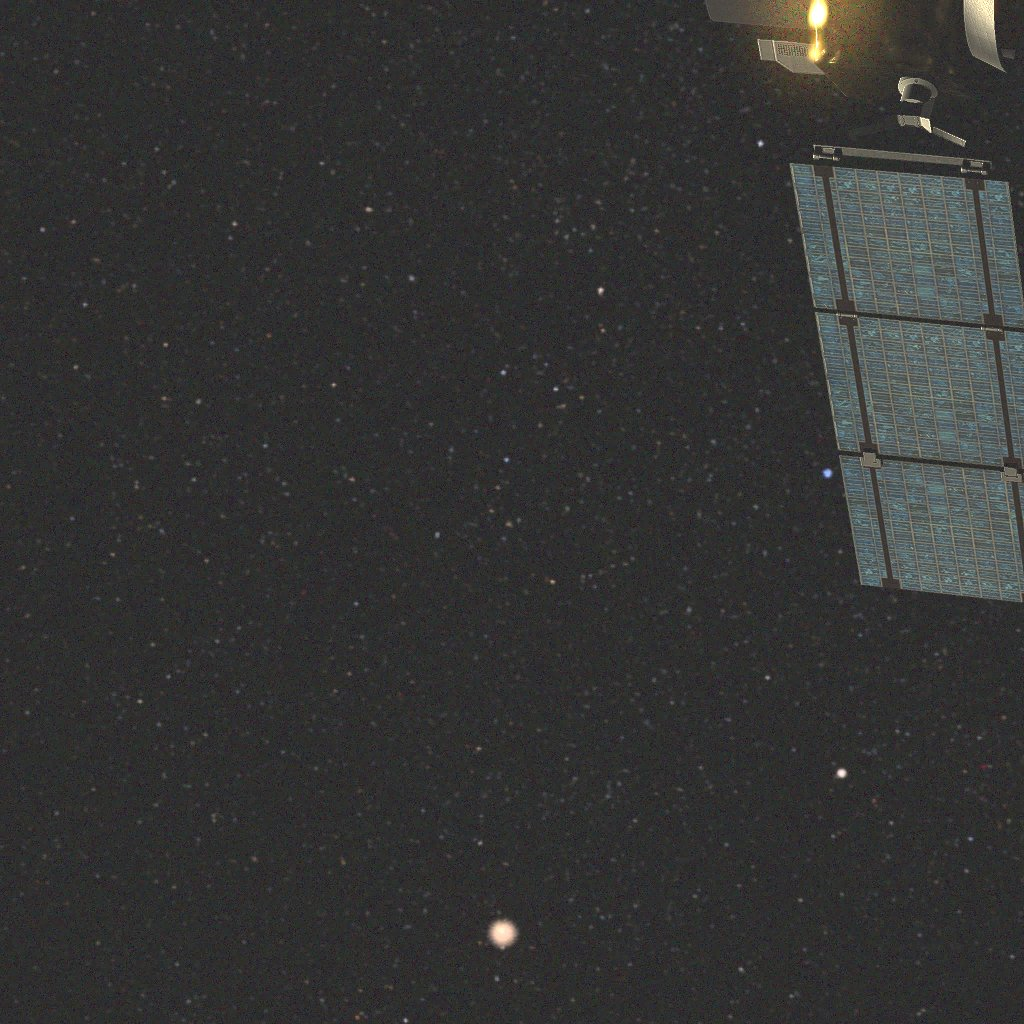earth_observation_sat_1: (706, 0, 1024, 602)
